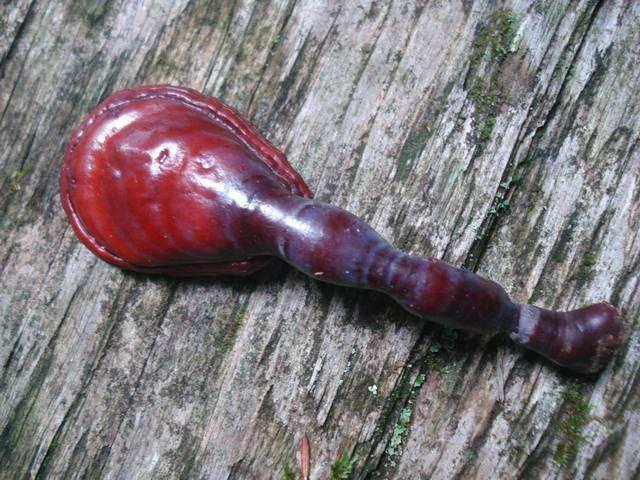Non-edible Mushroom: (57, 82, 625, 378)
